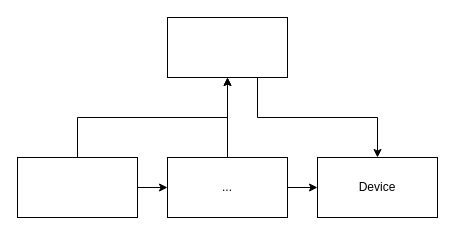
This 455x235 diagram has some shape labels left out. The shapes that lost their labels are listed below. From the top down, each one's box as (x1, y1, x2, y2) in pixels, then its label:
(166, 16, 288, 78): Root
(16, 156, 138, 218): Application
